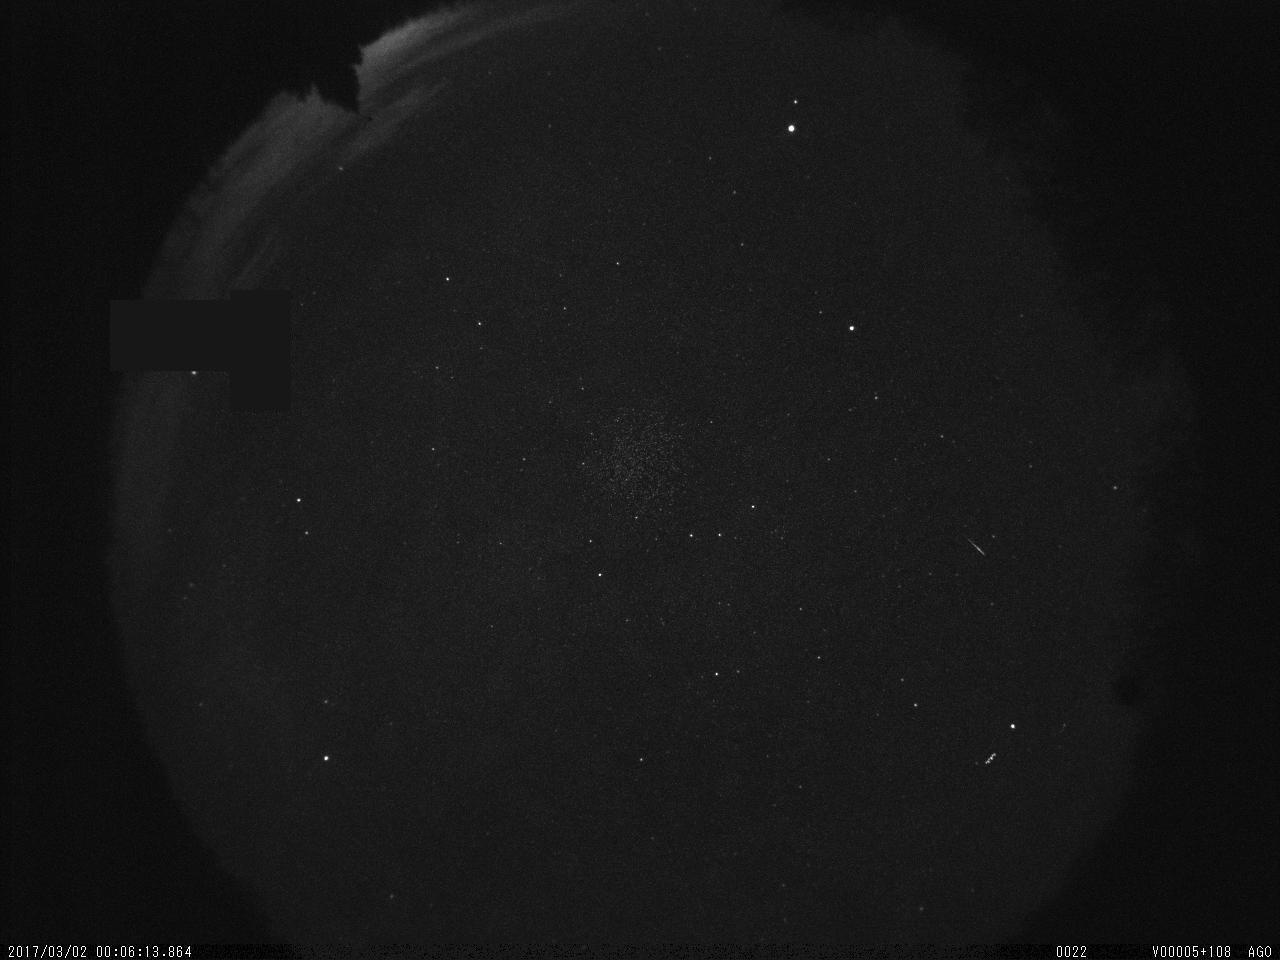meteor: (956, 526, 995, 566)
